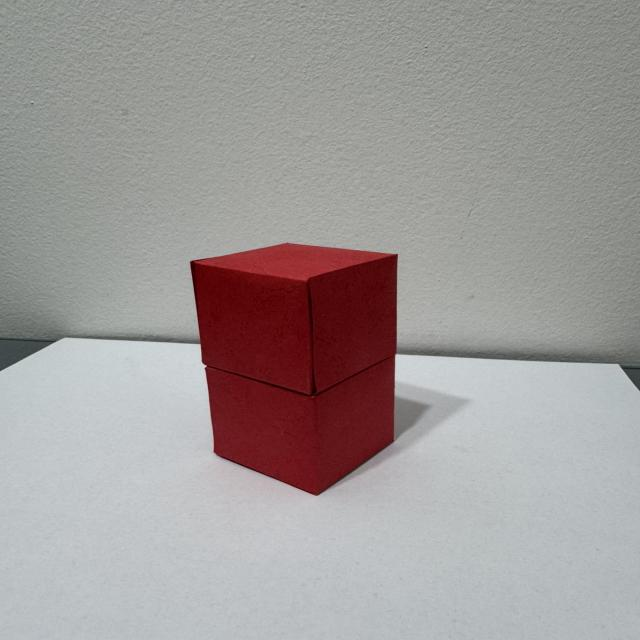red_cube: (171, 236, 440, 506)
